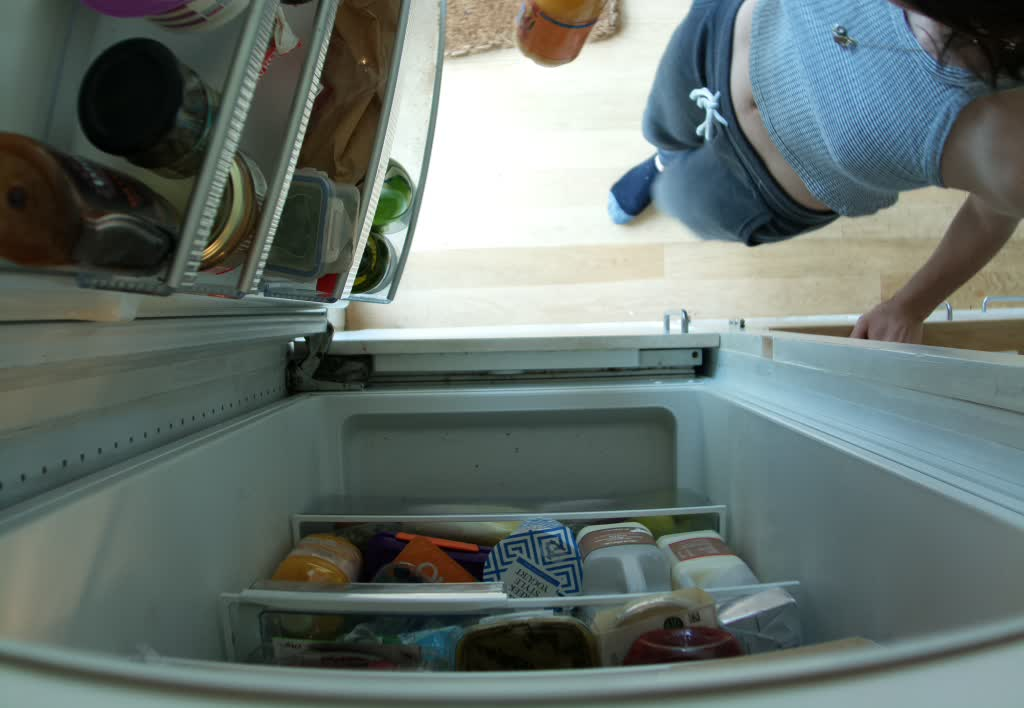juice: (510, 1, 610, 71)
